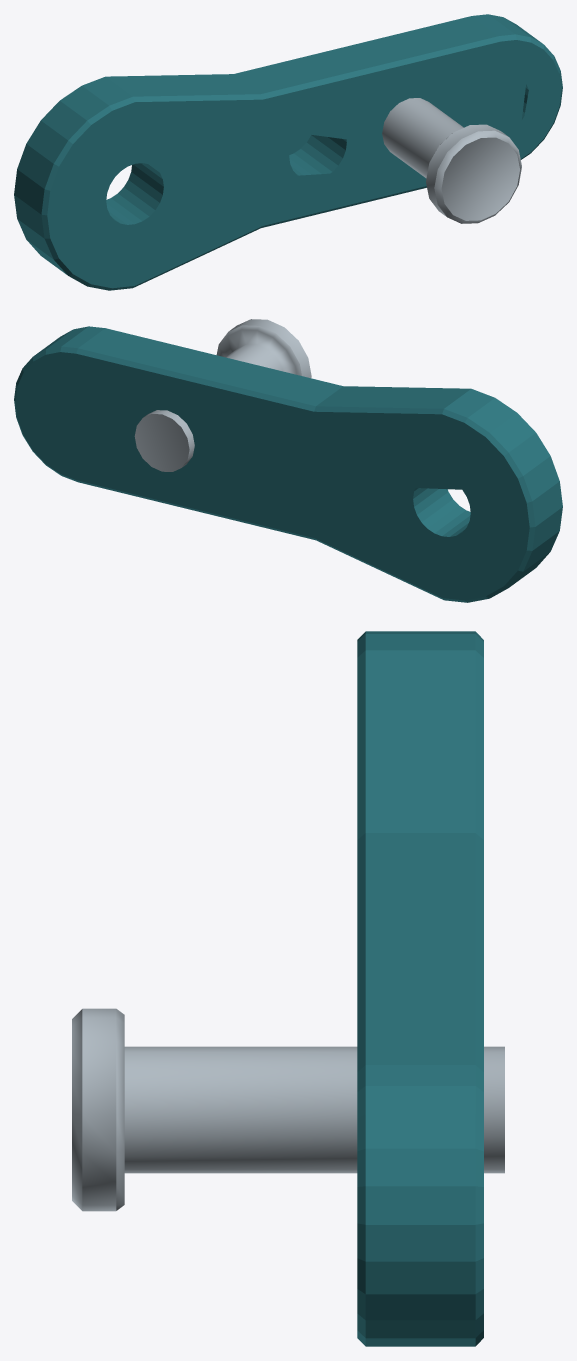
File: VLAB_crank.fbx
3 views of the same model, one above another, from view 1: azimuth 30°, elevation 25°; view 2: azimuth 150°, elevation 25°; view 3: azimuth 270°, elevation 25° (orthographic). The views are drawn at different scales.
Visible parts, largest first — view 1: VLAB_crank_CrankBody_VIS, VLAB_crank_CrankPin_VIS; view 2: VLAB_crank_CrankBody_VIS, VLAB_crank_CrankPin_VIS; view 3: VLAB_crank_CrankBody_VIS, VLAB_crank_CrankPin_VIS.
Part boxes in pixels (x1=…): VLAB_crank_CrankBody_VIS: x1=14, y1=14, x2=562, y2=290; VLAB_crank_CrankPin_VIS: x1=382, y1=98, x2=521, y2=223; VLAB_crank_CrankBody_VIS: x1=14, y1=326, x2=562, y2=602; VLAB_crank_CrankPin_VIS: x1=134, y1=319, x2=311, y2=471; VLAB_crank_CrankBody_VIS: x1=357, y1=631, x2=483, y2=1346; VLAB_crank_CrankPin_VIS: x1=72, y1=1008, x2=504, y2=1211.
Bounding box in the file's own units: 0.057 × 0.02 × 0.0205.
